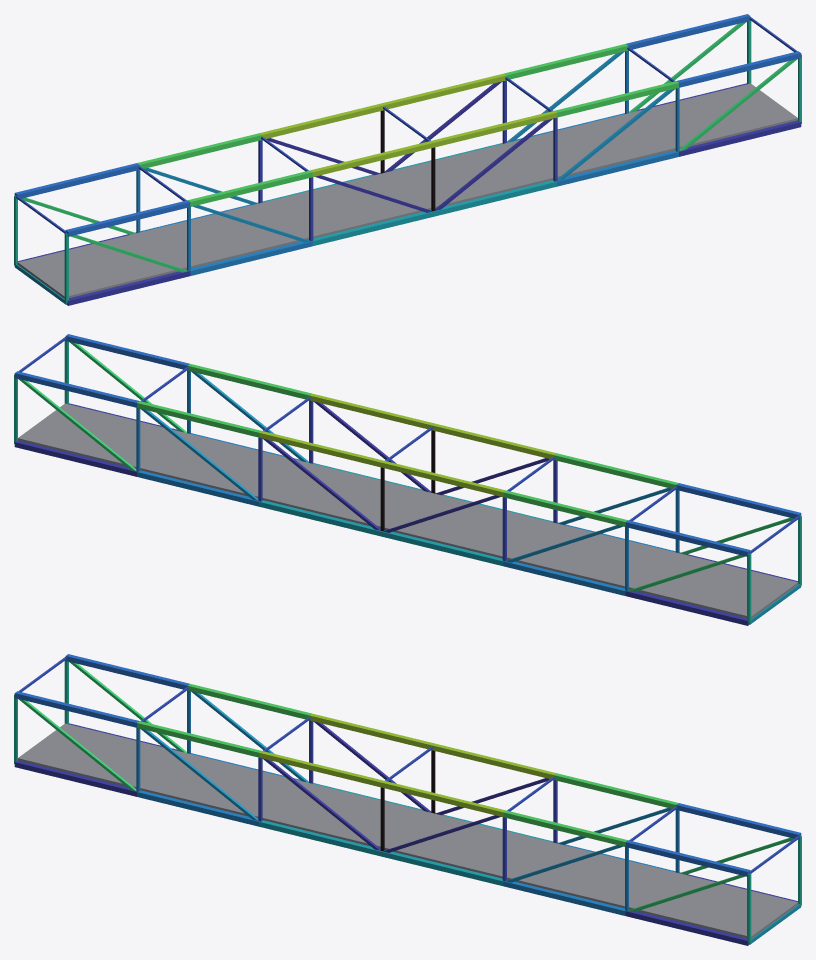
Rendered from 25_2.25_6_HEA200.glb.
The picture shows the model from 3 angles, top to bottom: view 1: azimuth 30°, elevation 25°; view 2: azimuth 150°, elevation 25°; view 3: azimuth 330°, elevation 25°; orthographic projection.
Size of the model in its own units: 25.09 by 2.41 by 3.16.
